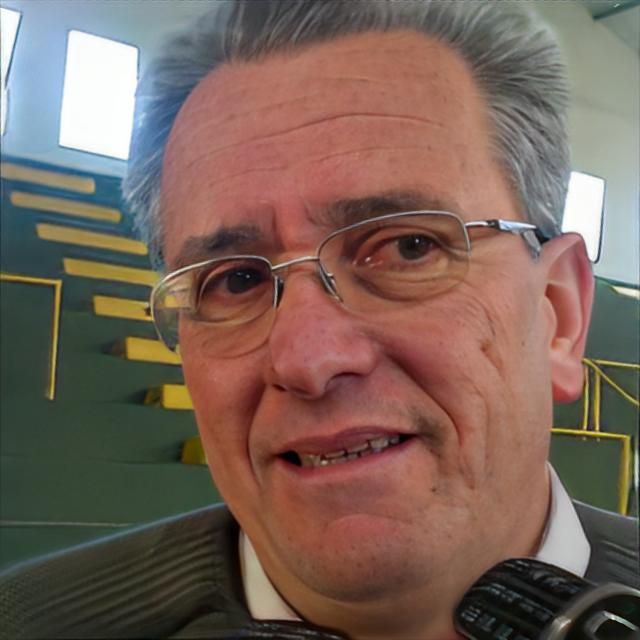happy: (162, 29, 540, 606)
